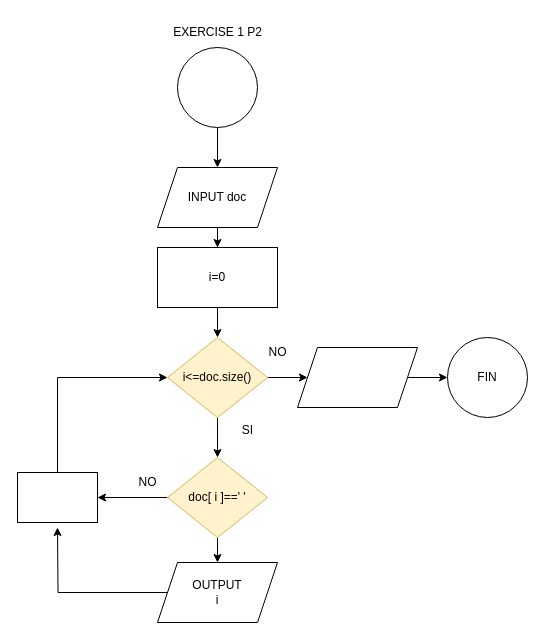
The diagram is 545 pixels wide and 640 high, and some of its shapes have lost their labels. Here are the shapes that lost their labels. From the top down, the centre of each, then its label:
At [217,87]: "INICIO".
At [357,377]: "OUTPUT doc.size()".
At [57,497]: "++i".
